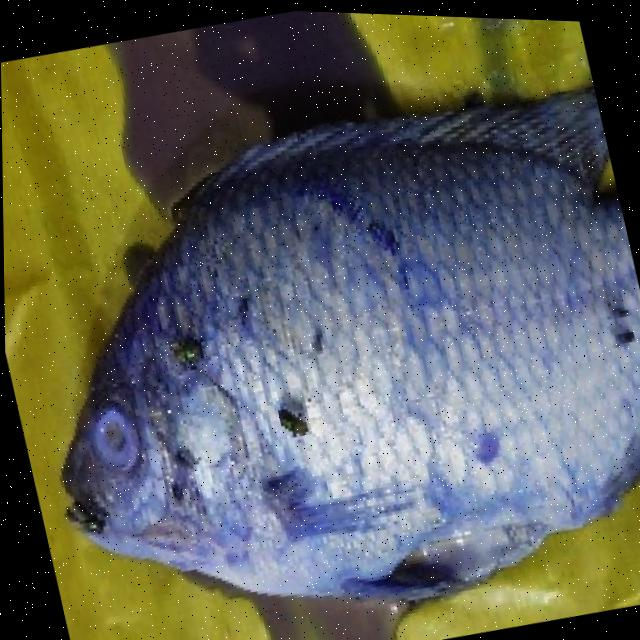Non-Fresh: (1, 81, 640, 640)
